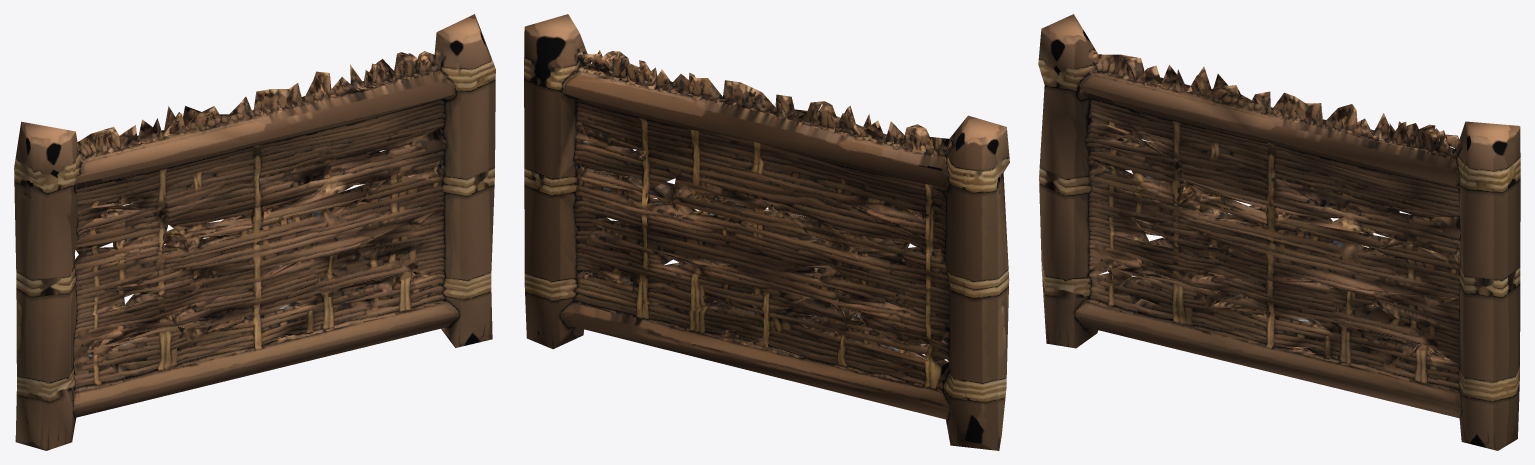
Rendered from fence.glb.
3 views of the same model, side by side, from view 1: azimuth 30°, elevation 25°; view 2: azimuth 150°, elevation 25°; view 3: azimuth 330°, elevation 25° (orthographic).
Parts seen in each view (by area): view 1: low; view 2: low; view 3: low.
Part boxes in pixels (<box>): low: <box>14,14,495,450</box>; low: <box>524,14,1009,450</box>; low: <box>1038,14,1520,450</box>.
Bounding box in the file's own units: 1 × 0.629 × 0.1077.
Materials: 1 (1 with a texture image).
